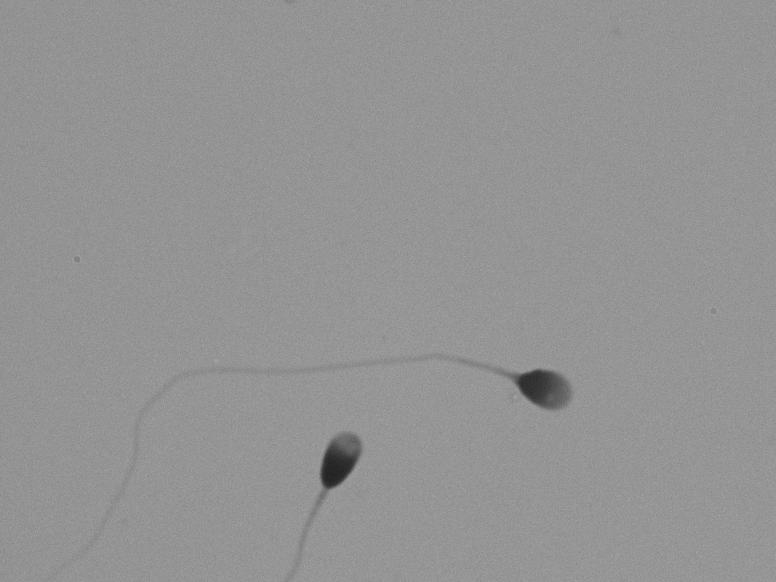Abnormal: (252, 403, 434, 566)
Normal: (45, 263, 635, 428)
